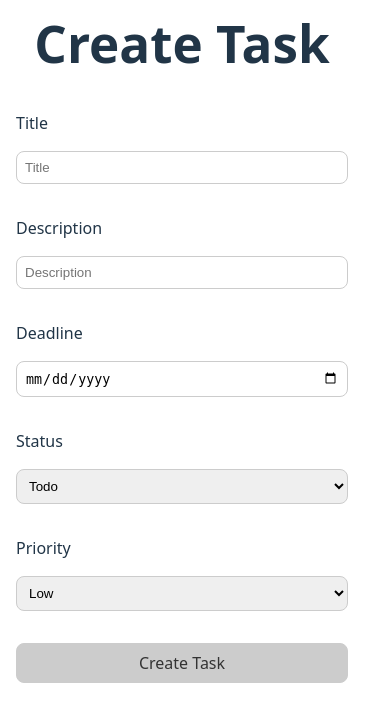
Test: CreateTaskPage › should show error when title is empty
Type "Test" into the field with placeholder "Title" at {"x": 182, "y": 168}, box [16,152,348,184]
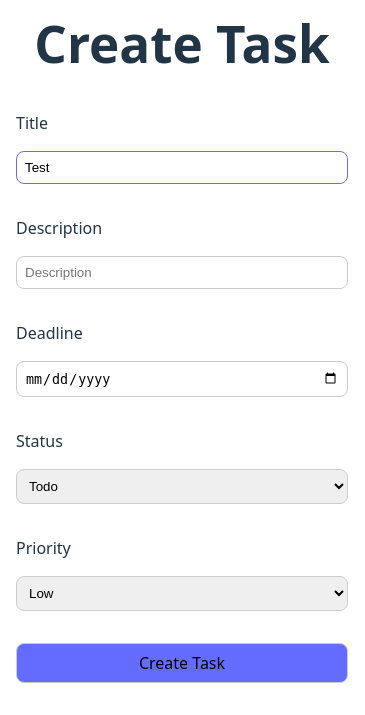
Clear the field with placeholder "Title" at {"x": 182, "y": 168}, box [16,152,348,184]
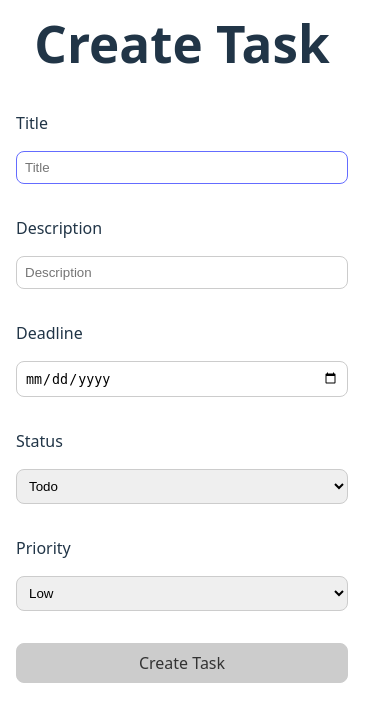
Press Tab
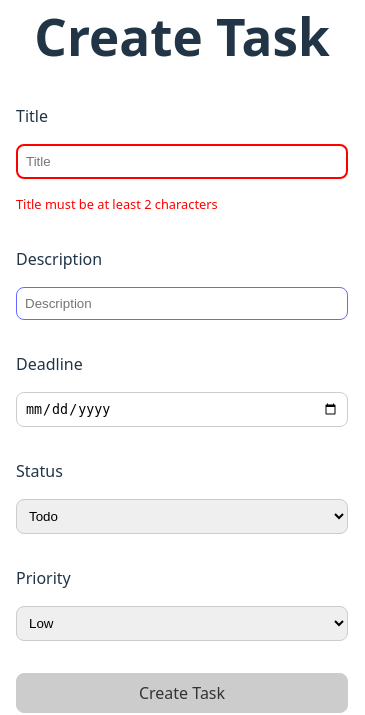
Result: the button "Create Task" is disabled at [16,673,348,713]
Result: the text "Title must be at least 2 characters" is shown at [16,195,218,213]
